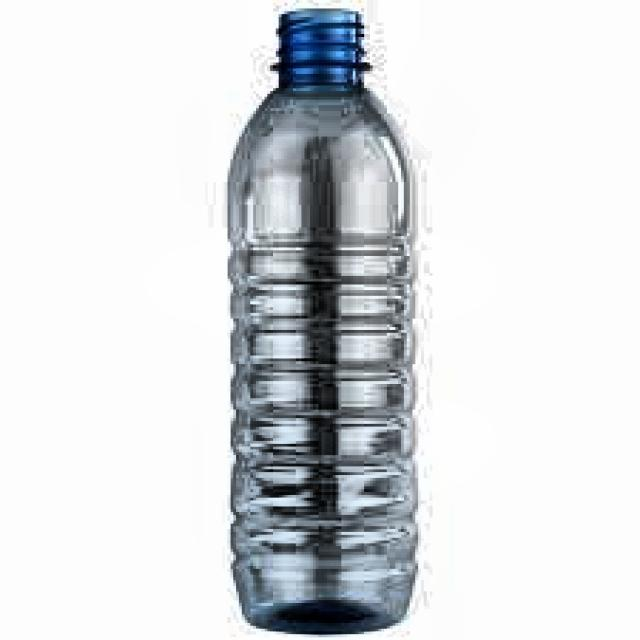plastic bottle: (229, 88, 416, 632)
